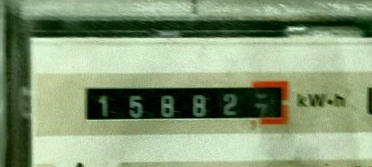1: (96, 93, 110, 118)
2: (222, 90, 239, 117)
5: (127, 93, 143, 118)
7: (253, 101, 267, 117)
8: (190, 91, 207, 116), (158, 93, 175, 117)
screen: (72, 73, 299, 134)
